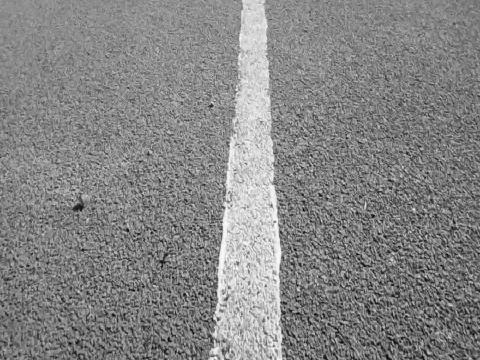Lines: (207, 0, 287, 360)
